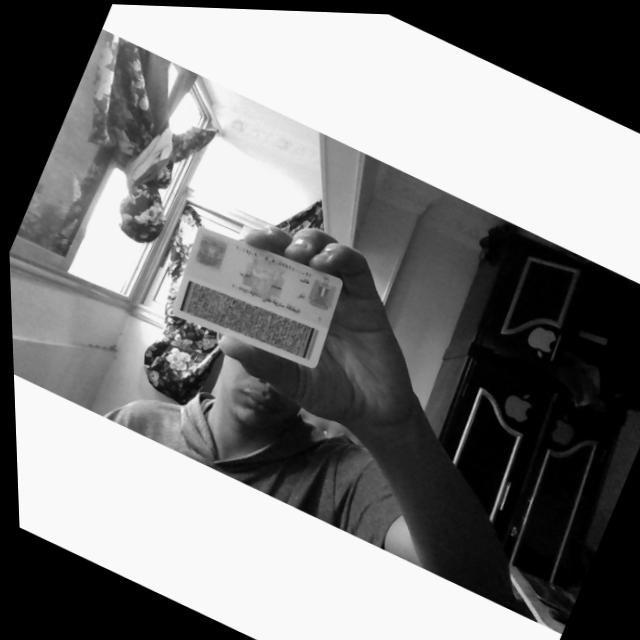id_card: (173, 227, 342, 368)
